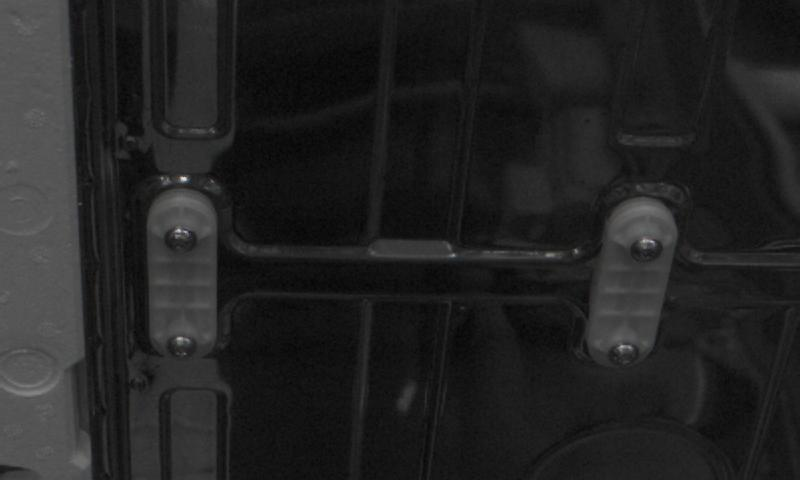vida-ok: (625, 231, 669, 271), (162, 218, 201, 258), (607, 334, 646, 373), (163, 330, 200, 365)
